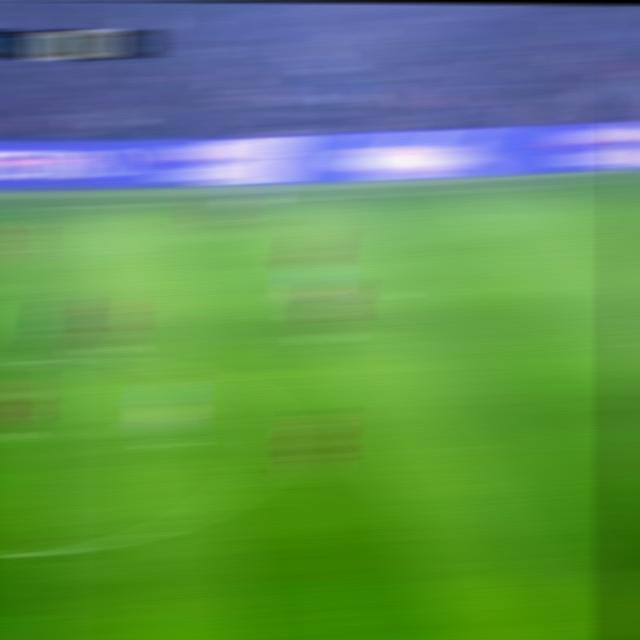halfcircle_bottom: (21, 534, 74, 569)
halfcircle_top: (25, 345, 74, 375)
midline_top_intersection: (30, 196, 70, 222)
